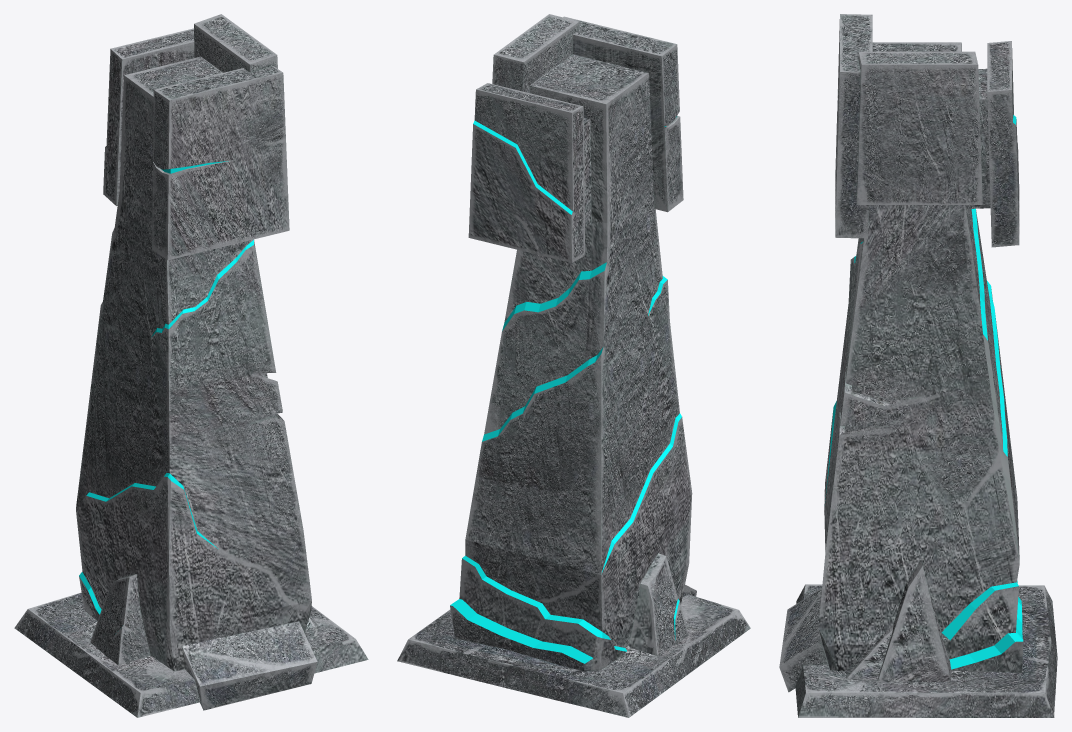
The model's file is Tower.fbx.
The picture shows the model from 3 angles, left to right: view 1: azimuth 30°, elevation 25°; view 2: azimuth 150°, elevation 25°; view 3: azimuth 270°, elevation 25°; orthographic projection. The views are drawn at different scales.
Parts seen in each view (by area): view 1: Cubo.000; view 2: Cubo.000; view 3: Cubo.000.
Boxes of the visible parts, x1,y1,x2,y2 form: Cubo.000: [14, 14, 368, 717]; Cubo.000: [397, 14, 750, 717]; Cubo.000: [779, 14, 1057, 717].
Size of the model in its own units: 3.29 by 8.17 by 3.28.
2 materials, 1 textured.
